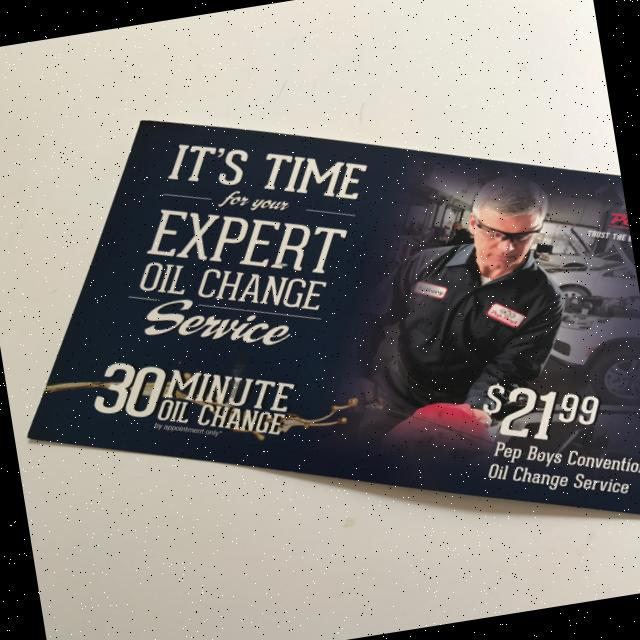paper: (0, 45, 640, 616)
